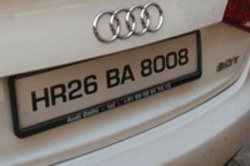number_plate: (15, 33, 200, 126)
